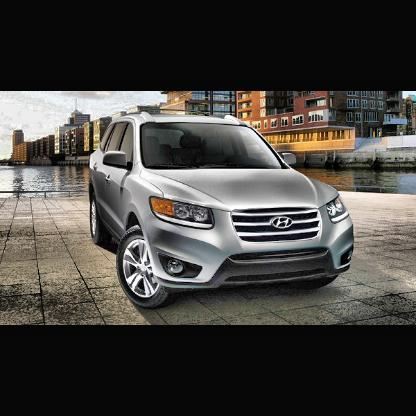Hyundai Santa Fe SUV 2012: (89, 114, 357, 305)
